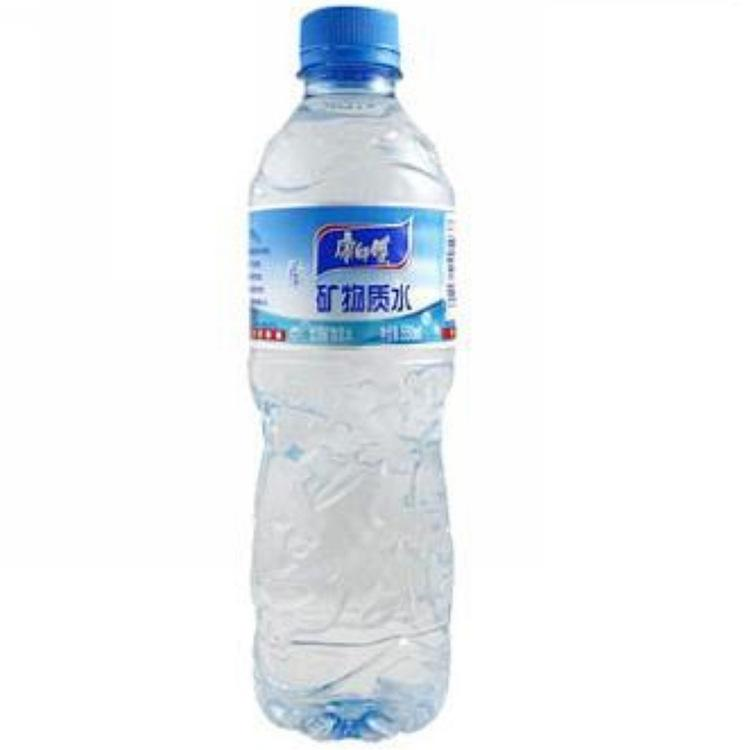amwater: (212, 6, 500, 744)
